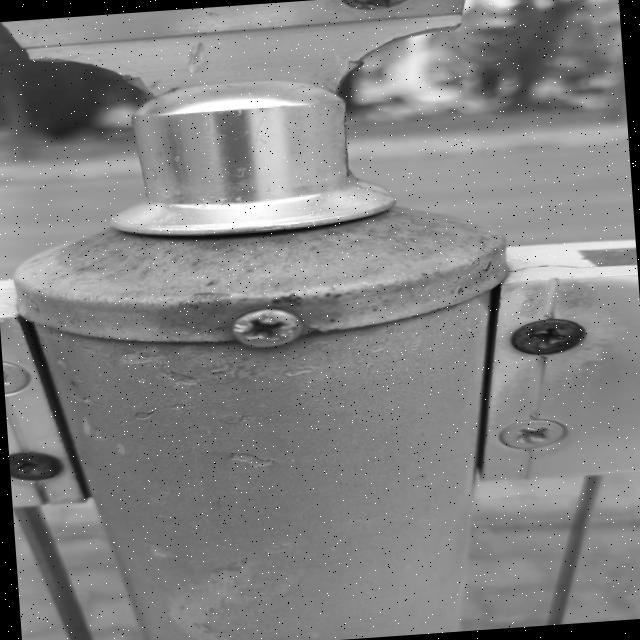Phillips: (508, 314, 586, 364), (496, 416, 564, 451)
Pozidriv: (230, 306, 301, 348)
